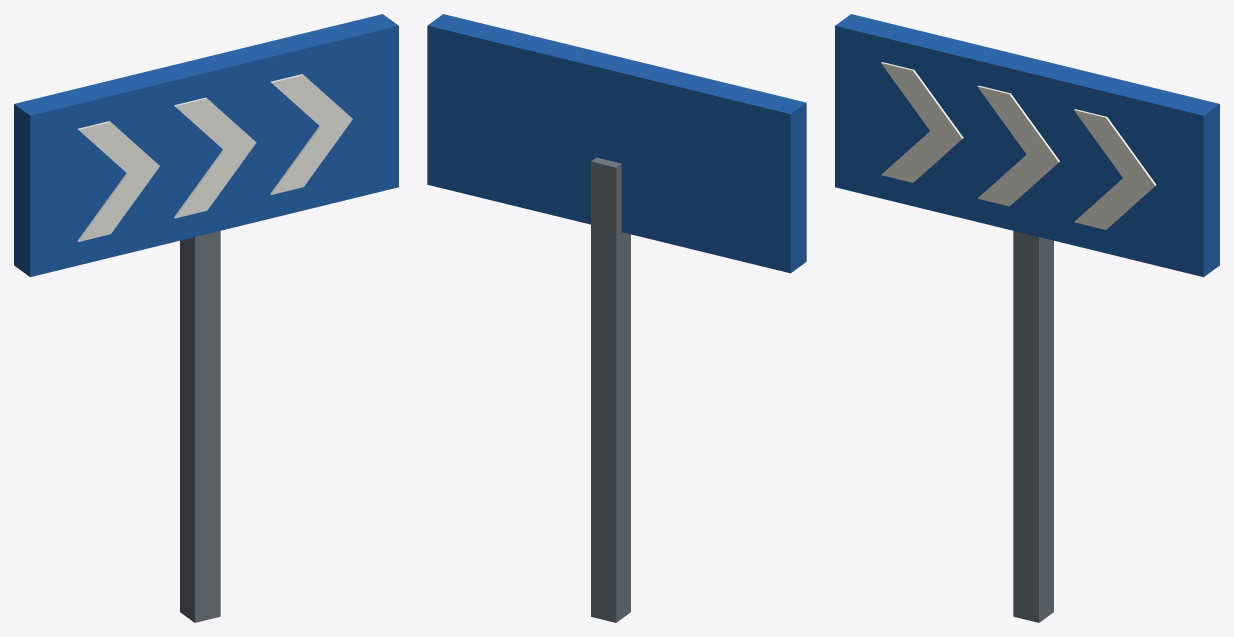
Rendered from chevron_sign.glb.
3 renders of one model, left to right at view 1: azimuth 30°, elevation 25°; view 2: azimuth 150°, elevation 25°; view 3: azimuth 330°, elevation 25°, orthographic.
Parts seen in each view (by area): view 1: Blue direction board, Steel post, Chevron -1, Chevron 0, Chevron 1; view 2: Blue direction board, Steel post; view 3: Blue direction board, Steel post, Chevron 1, Chevron -1, Chevron 0.
Boxes of the visible parts, box(x1,y1,x2,y2) form: Blue direction board: box(14, 14, 398, 277); Steel post: box(180, 231, 220, 622); Chevron -1: box(77, 121, 159, 241); Chevron 0: box(174, 97, 256, 218); Chevron 1: box(270, 74, 352, 194); Blue direction board: box(427, 14, 806, 273); Steel post: box(591, 157, 630, 622); Blue direction board: box(835, 14, 1219, 277); Steel post: box(1013, 231, 1053, 622); Chevron 1: box(1074, 109, 1156, 229); Chevron -1: box(881, 62, 963, 182); Chevron 0: box(977, 85, 1059, 206).
Bounding box in the file's own units: 1.72 × 2.47 × 0.186.
